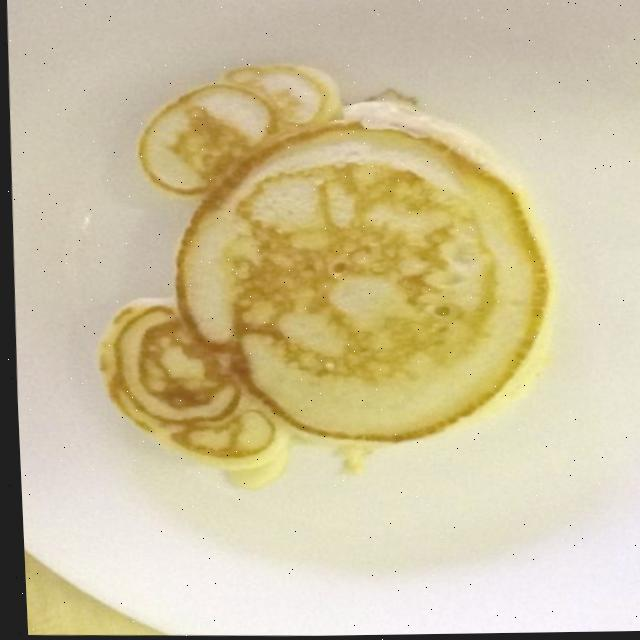蛋糕甜品: (4, 0, 640, 637)
